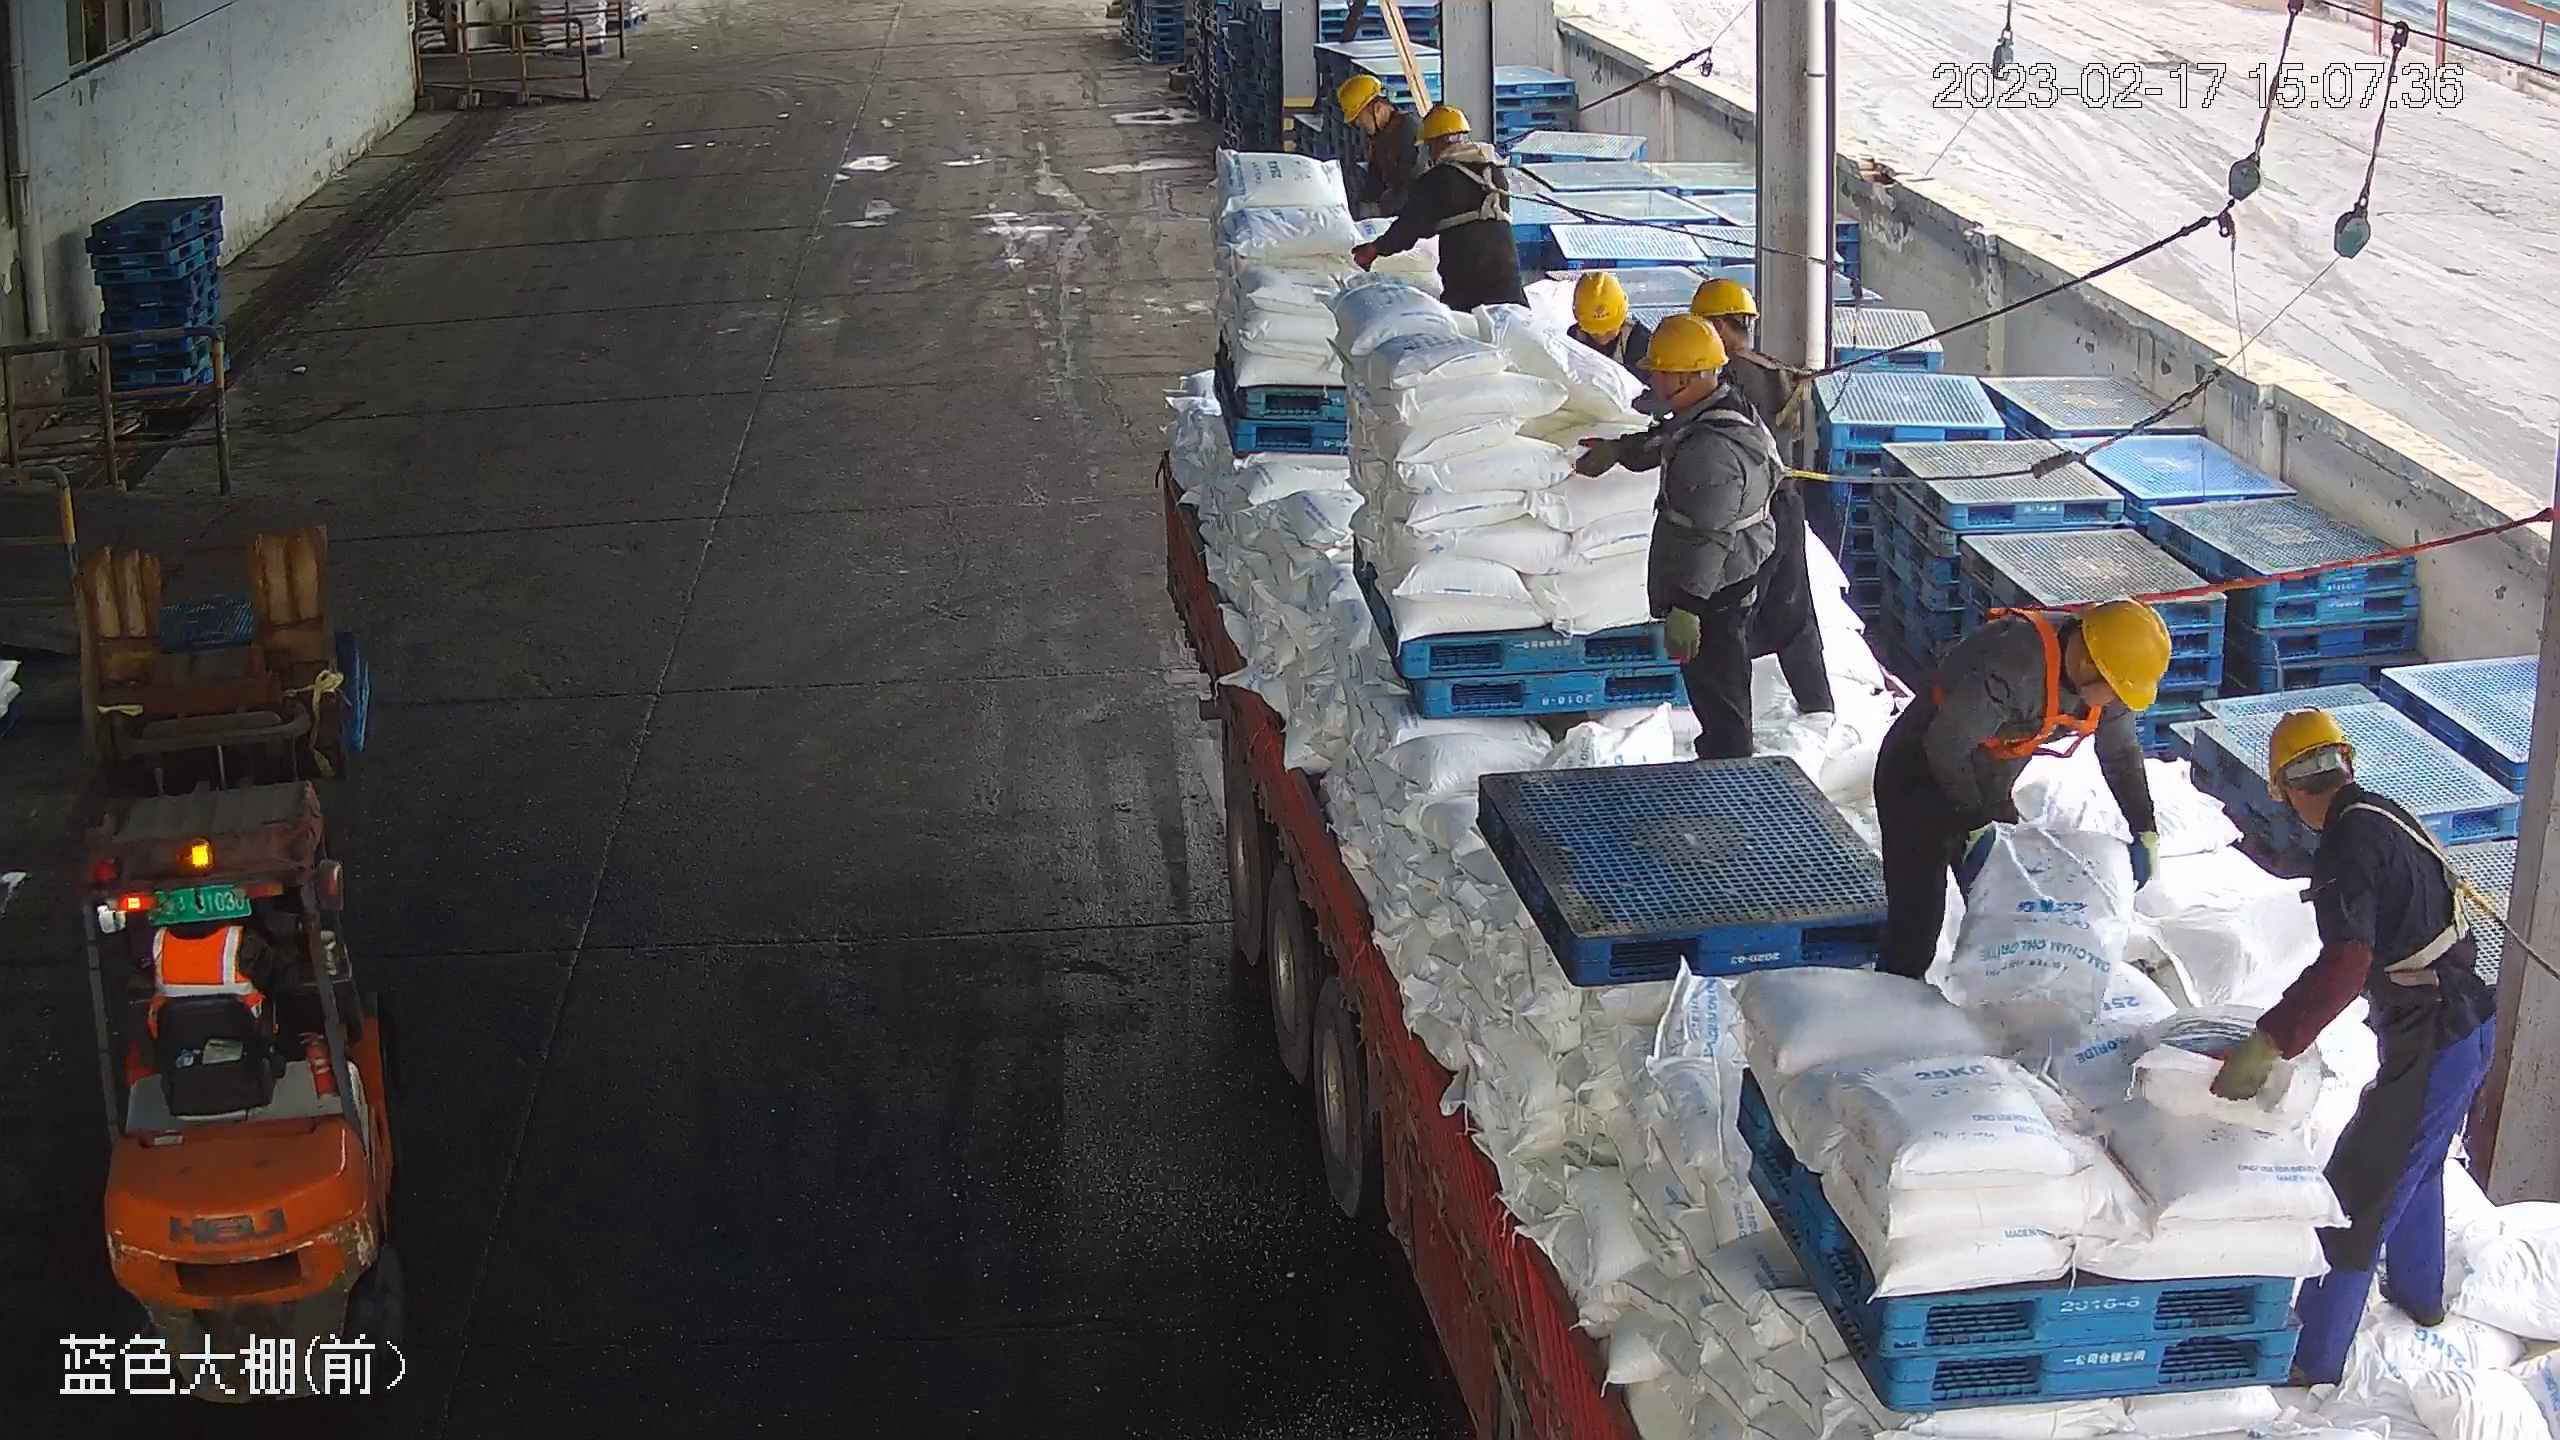belt: (2337, 791, 2491, 998), (1937, 589, 2117, 762), (1645, 400, 1825, 537), (1735, 335, 1840, 445), (1440, 166, 1510, 232)
head: (2269, 706, 2444, 898), (2002, 595, 2169, 737), (1634, 315, 1776, 478), (1339, 72, 1432, 181), (1415, 106, 1508, 210)
helmet: (2081, 598, 2171, 717), (2267, 703, 2354, 800), (1637, 315, 1732, 378), (1574, 272, 1632, 335), (1688, 274, 1757, 323), (1337, 70, 1381, 125), (1422, 106, 1473, 144)
people: (2210, 705, 2505, 1389), (1569, 279, 1845, 715), (1869, 594, 2176, 976), (1634, 315, 1790, 764), (1351, 101, 1527, 317)
truck: (1154, 430, 2560, 1440)
